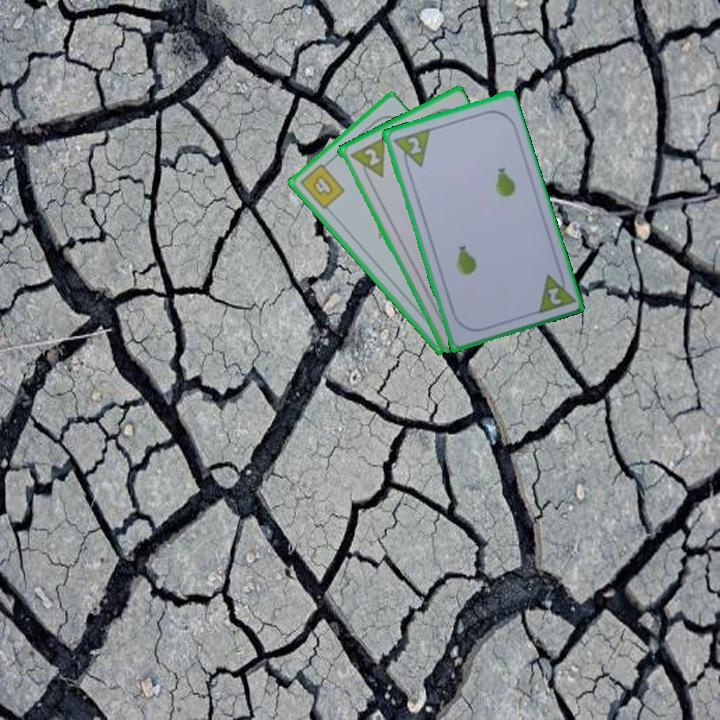2p: (533, 266, 576, 316), (389, 125, 432, 174), (360, 144, 383, 168)
4b: (296, 157, 348, 212)
